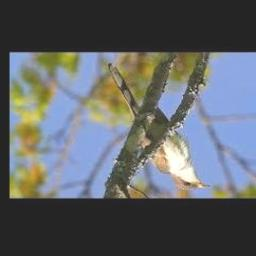Cuckoo: (109, 63, 212, 190)
